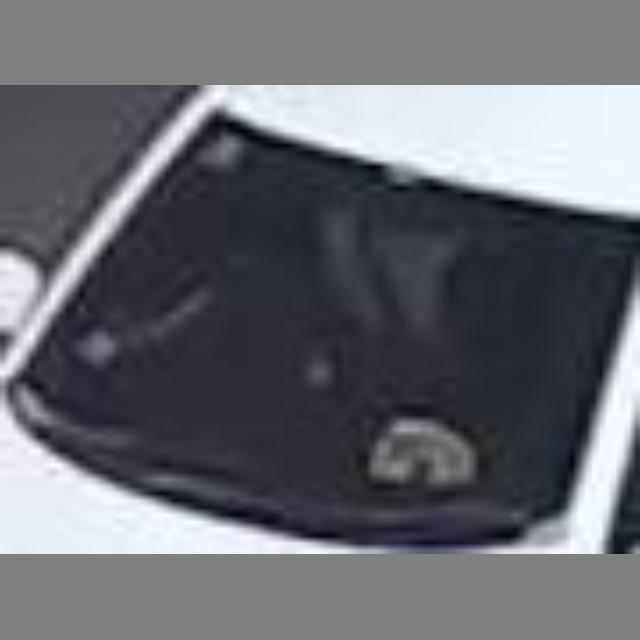pakai: (235, 156, 476, 405)
